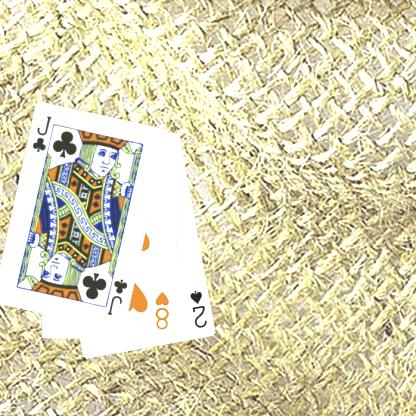2S: (187, 287, 209, 330)
8H: (153, 289, 171, 331)
JC: (29, 113, 54, 154), (105, 277, 129, 317)
